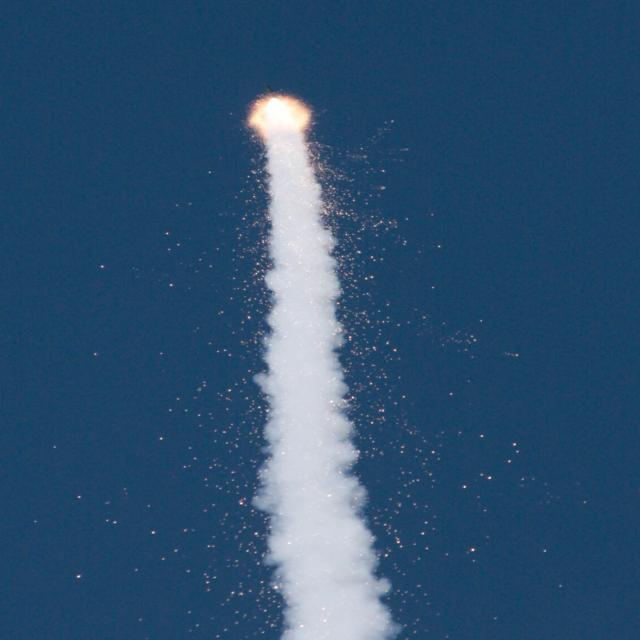Rocket: (264, 84, 278, 99)
